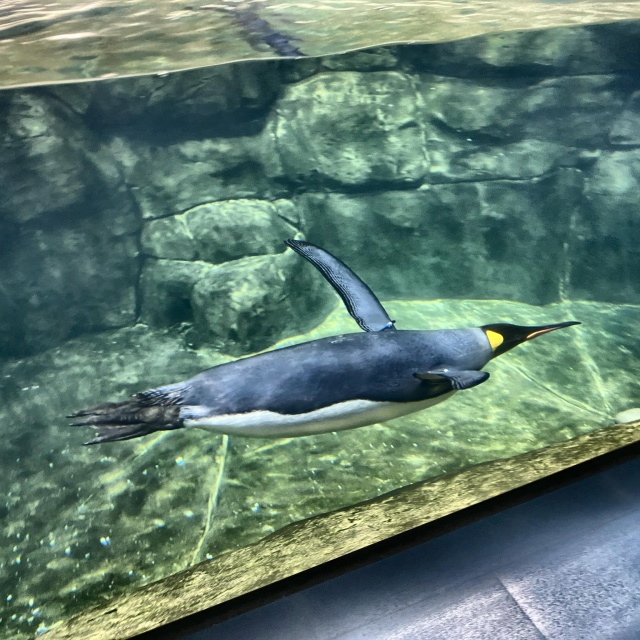penguin: (51, 242, 589, 444)
